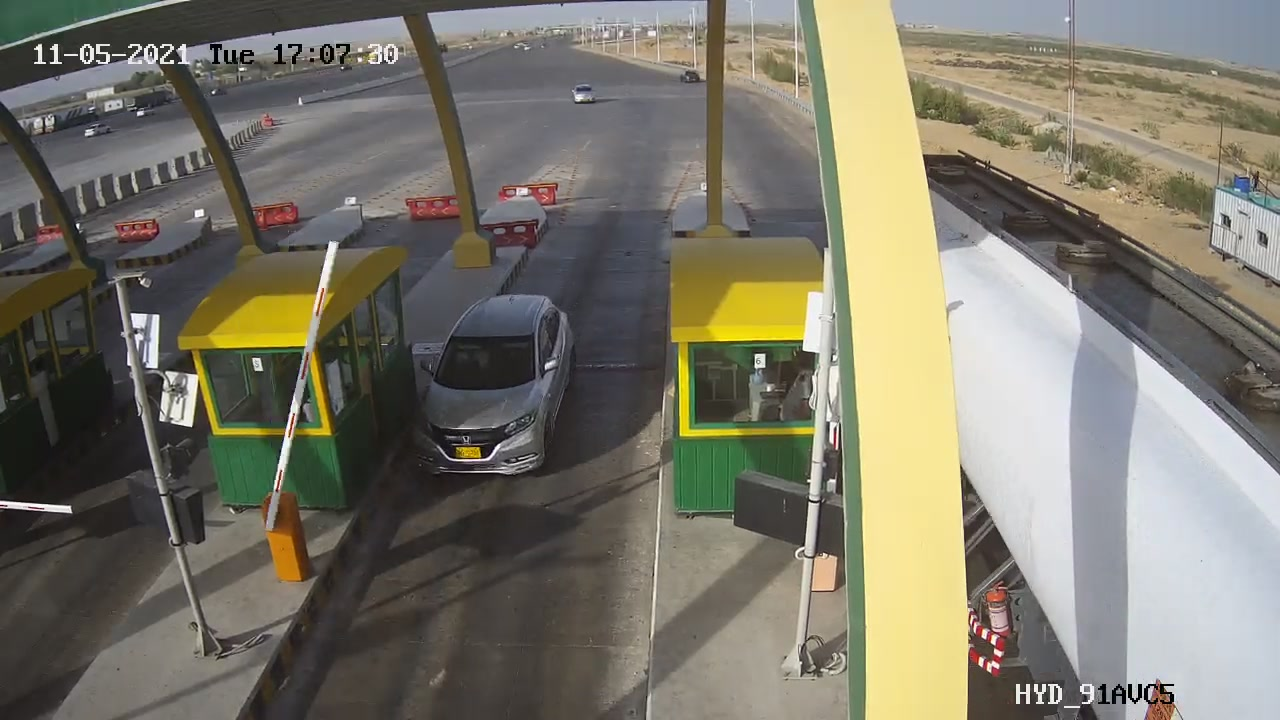F1: (394, 275, 586, 491)
